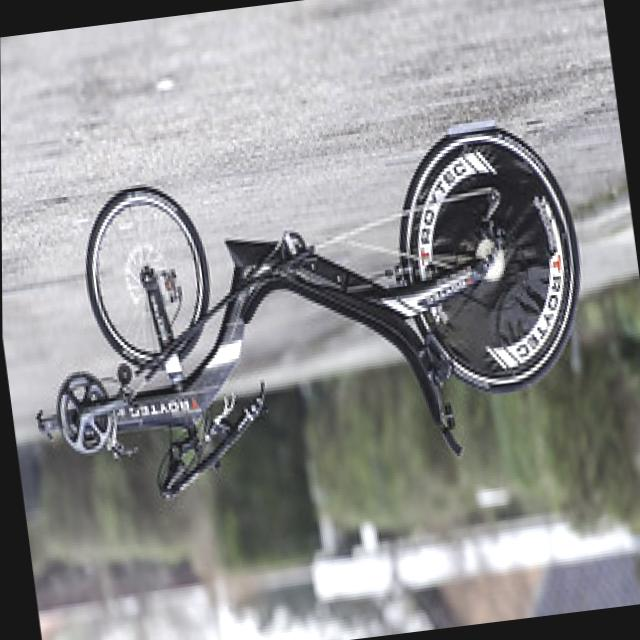recumbent-bike: (4, 126, 609, 514)
